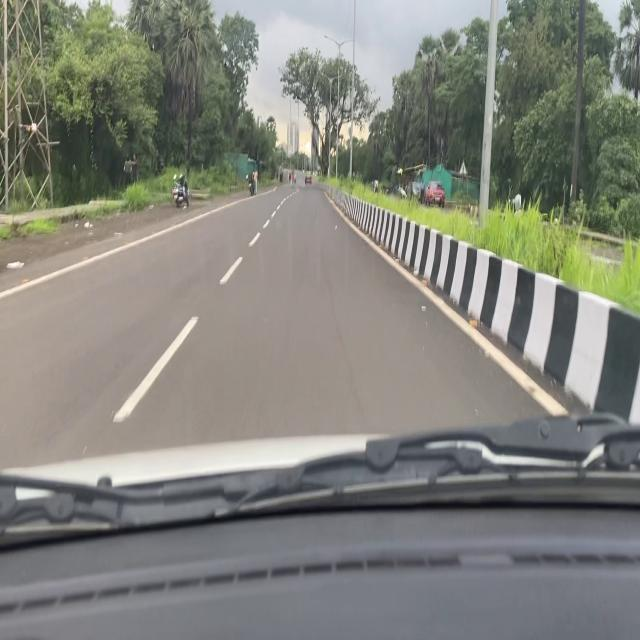lane: (318, 190, 571, 420), (112, 199, 291, 426), (1, 183, 278, 307)
